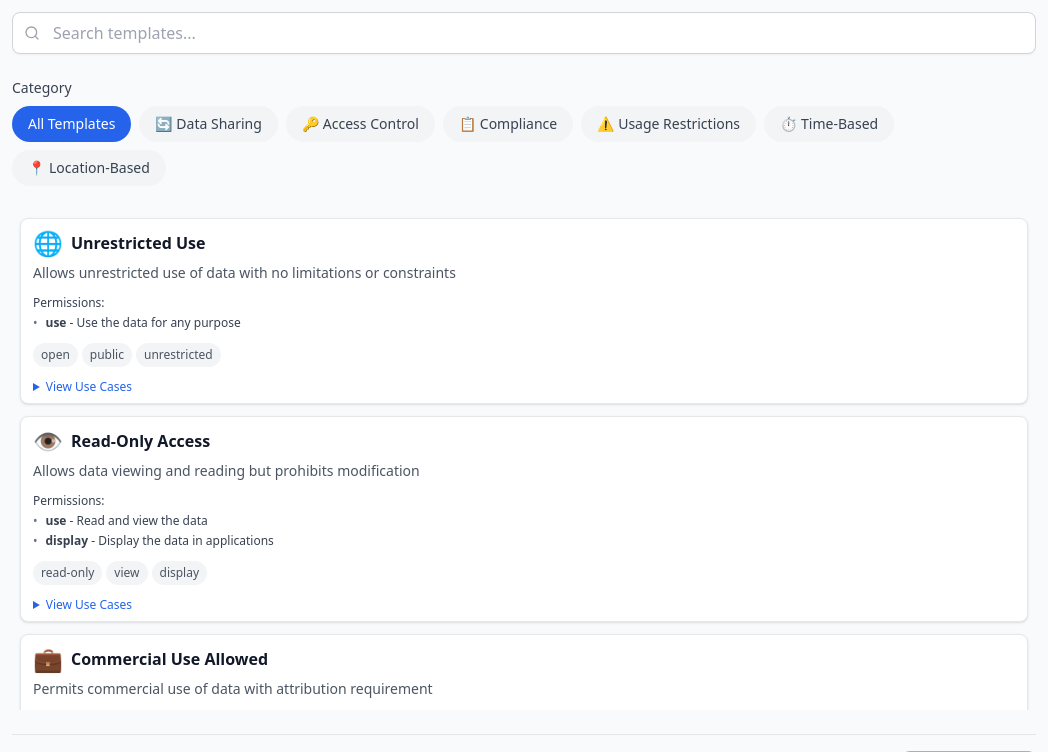
Test: PolicyTemplateSelector › should highlight selected template with visual indicator
Step 1. Click the text "🌐 Unrestricted Use" → (119, 242), box [33,226,206,259]
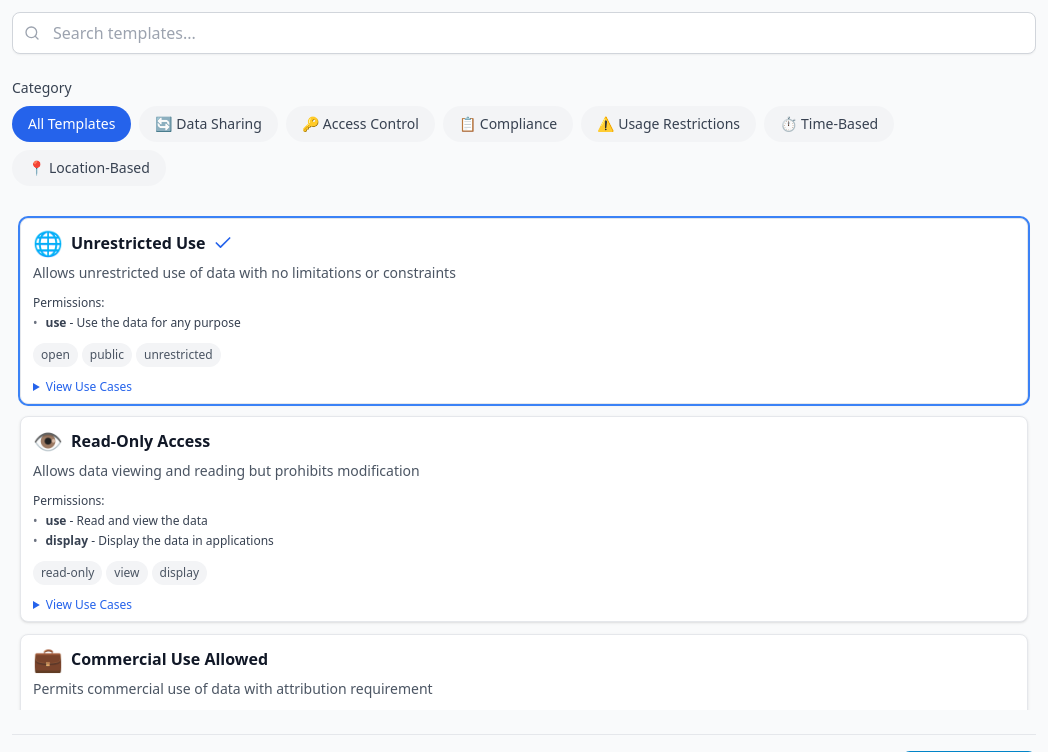
expect the icon named "selected" is shown: met, box [214,233,234,253]
